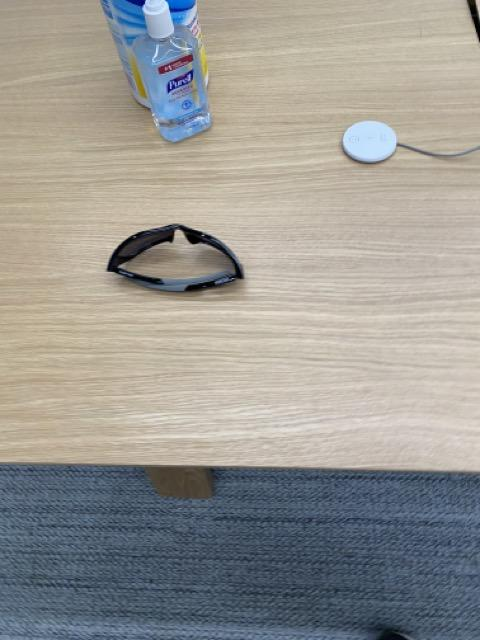Sunglasses: (107, 221, 246, 294)
